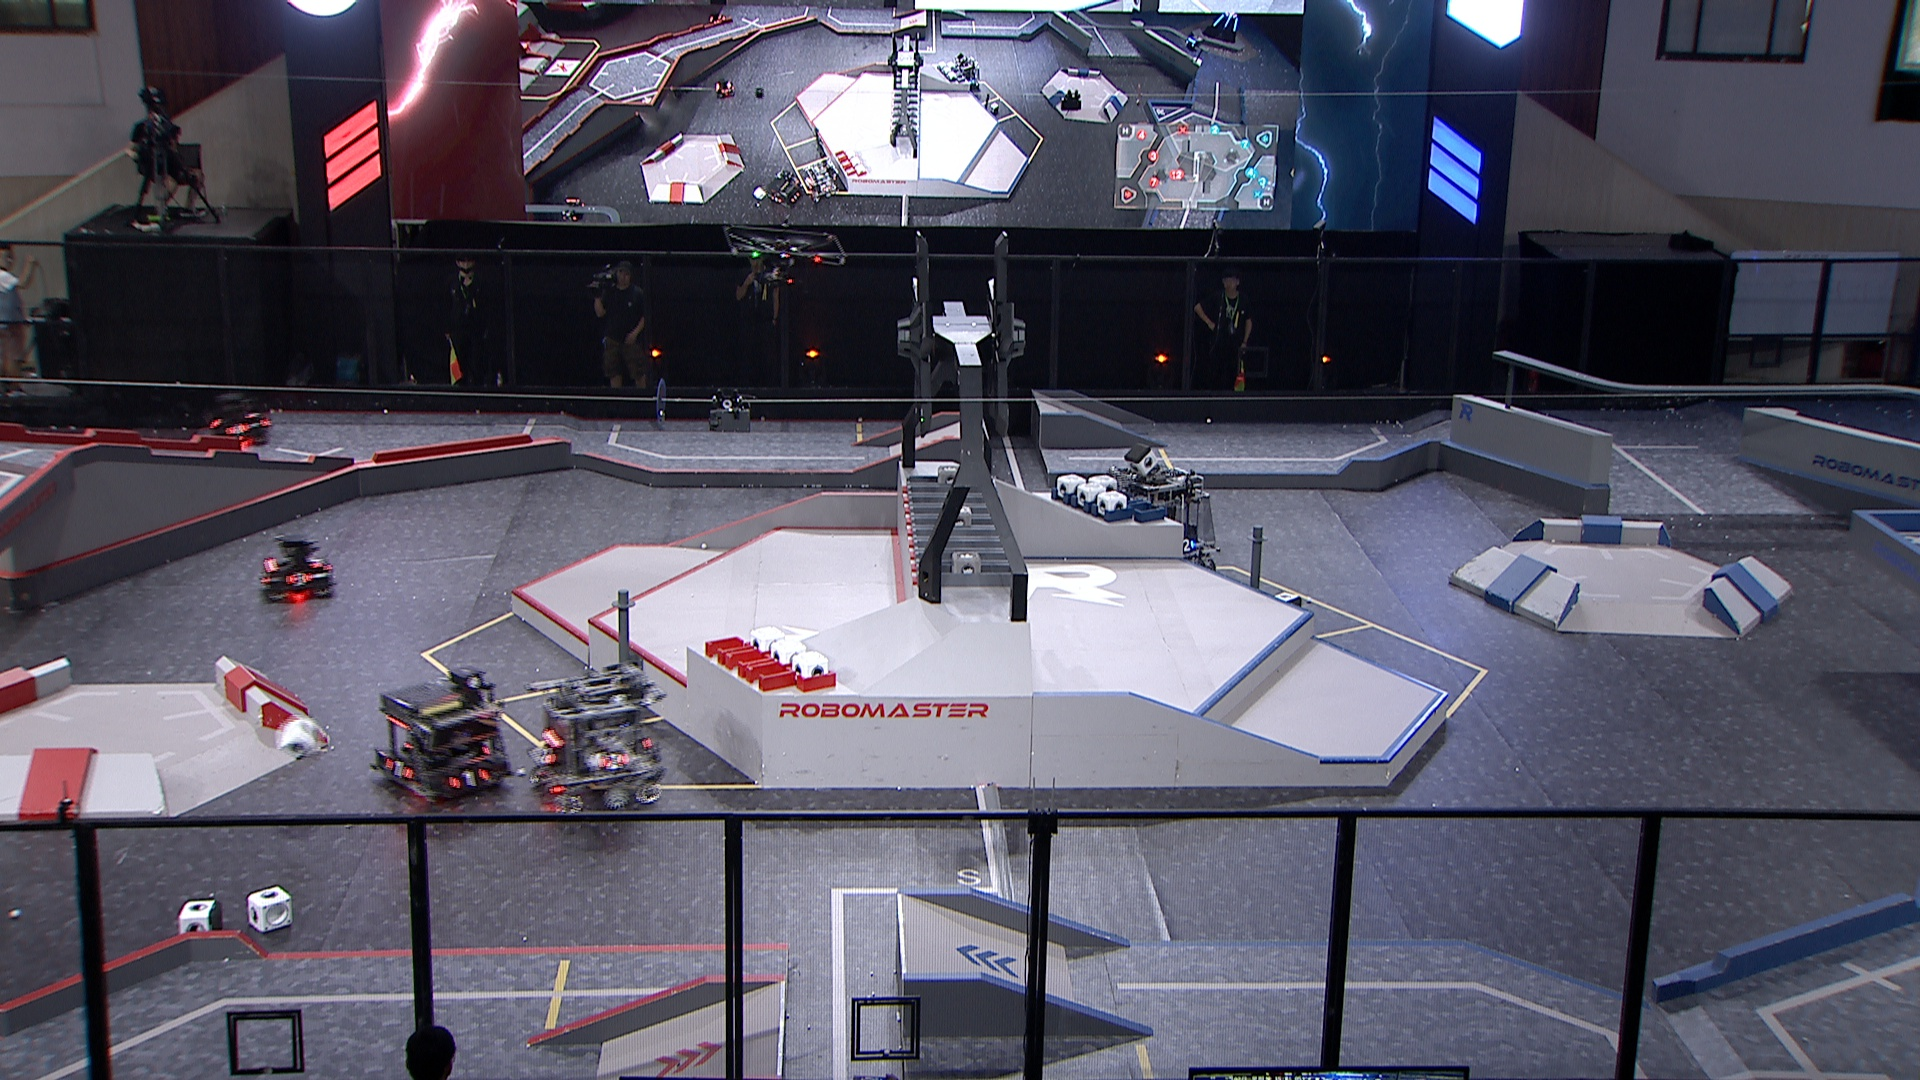armor: (444, 766, 493, 793), (599, 752, 632, 773), (384, 756, 413, 779), (533, 745, 556, 767), (284, 568, 310, 588), (1176, 535, 1196, 555), (305, 553, 324, 571), (225, 423, 251, 438)
car: (524, 669, 665, 814), (373, 680, 510, 807), (1114, 467, 1220, 576), (256, 531, 338, 603), (202, 392, 272, 448)
ignore: (766, 169, 806, 214), (802, 164, 841, 204), (1203, 11, 1240, 45), (951, 53, 982, 91), (558, 195, 588, 222), (712, 74, 736, 102), (1182, 29, 1205, 53)
